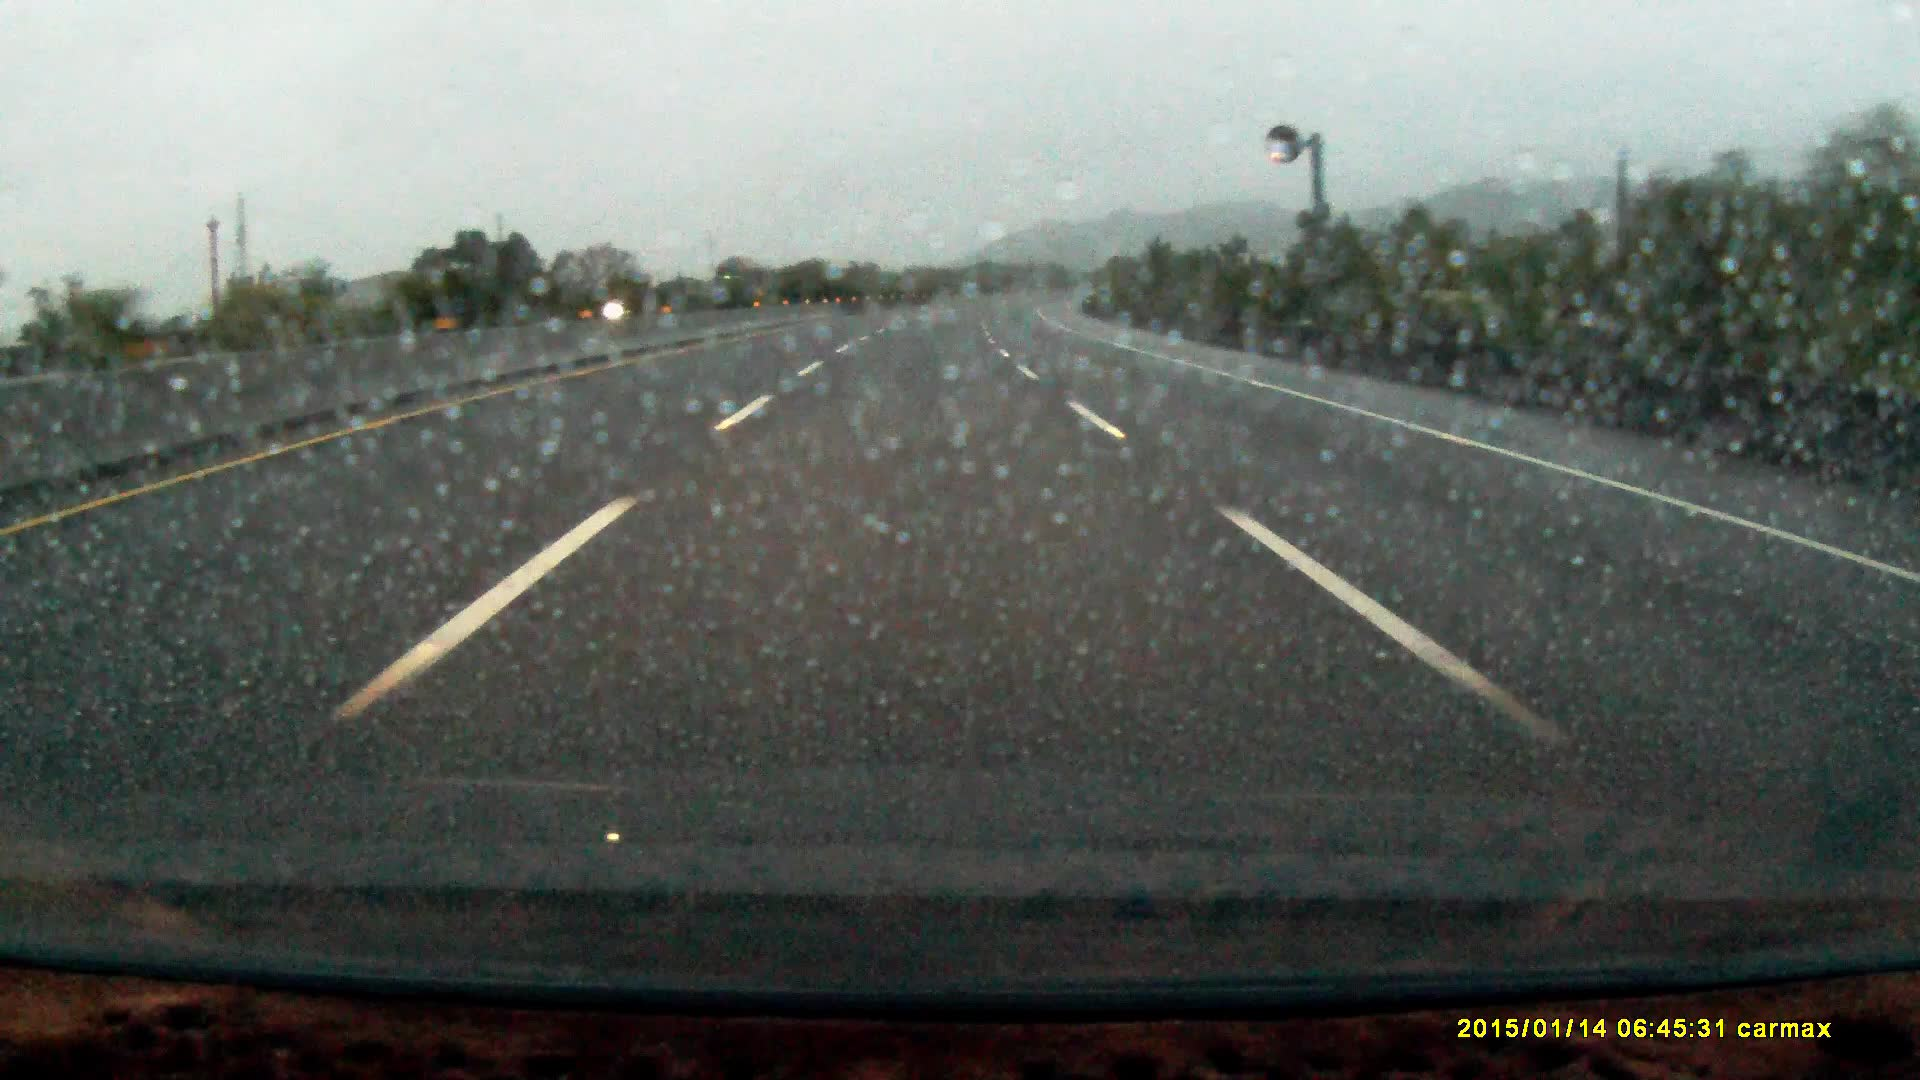vehicle: (705, 257, 756, 305), (603, 287, 659, 316)
